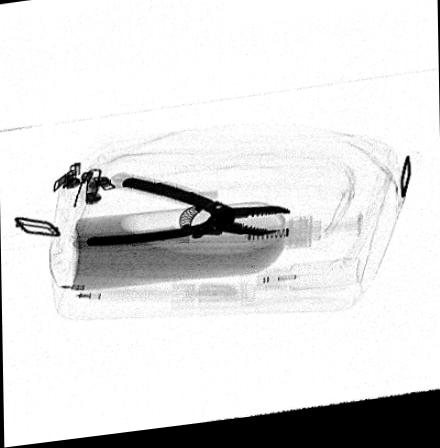Pliers: (85, 179, 293, 250)
